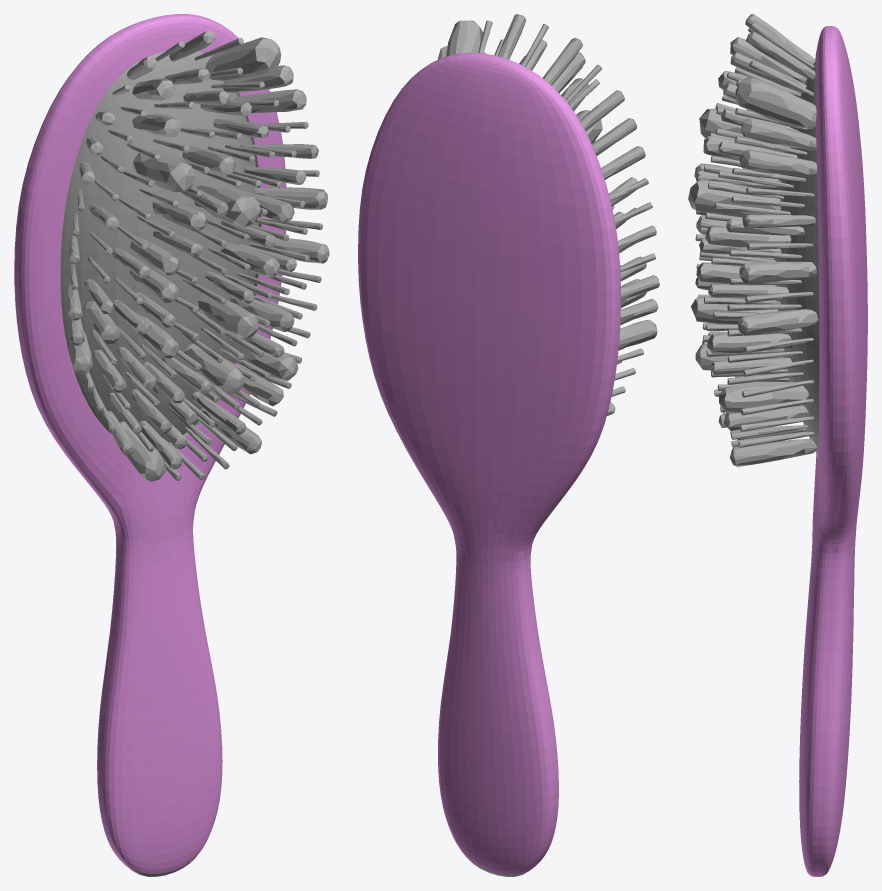
Rendered from brush.fbx.
3 renders of one model, left to right at view 1: azimuth 30°, elevation 25°; view 2: azimuth 150°, elevation 25°; view 3: azimuth 270°, elevation 25°, orthographic. The views are drawn at different scales.
Visible parts, largest first — view 1: polySurface1; view 2: polySurface1; view 3: polySurface1.
Boxes of the visible parts, x1,y1,x2,y2 form: polySurface1: (14, 14, 329, 876); polySurface1: (358, 14, 659, 876); polySurface1: (688, 14, 867, 876).
Bounding box in the file's own units: 7.51 × 23.3 × 4.49.
